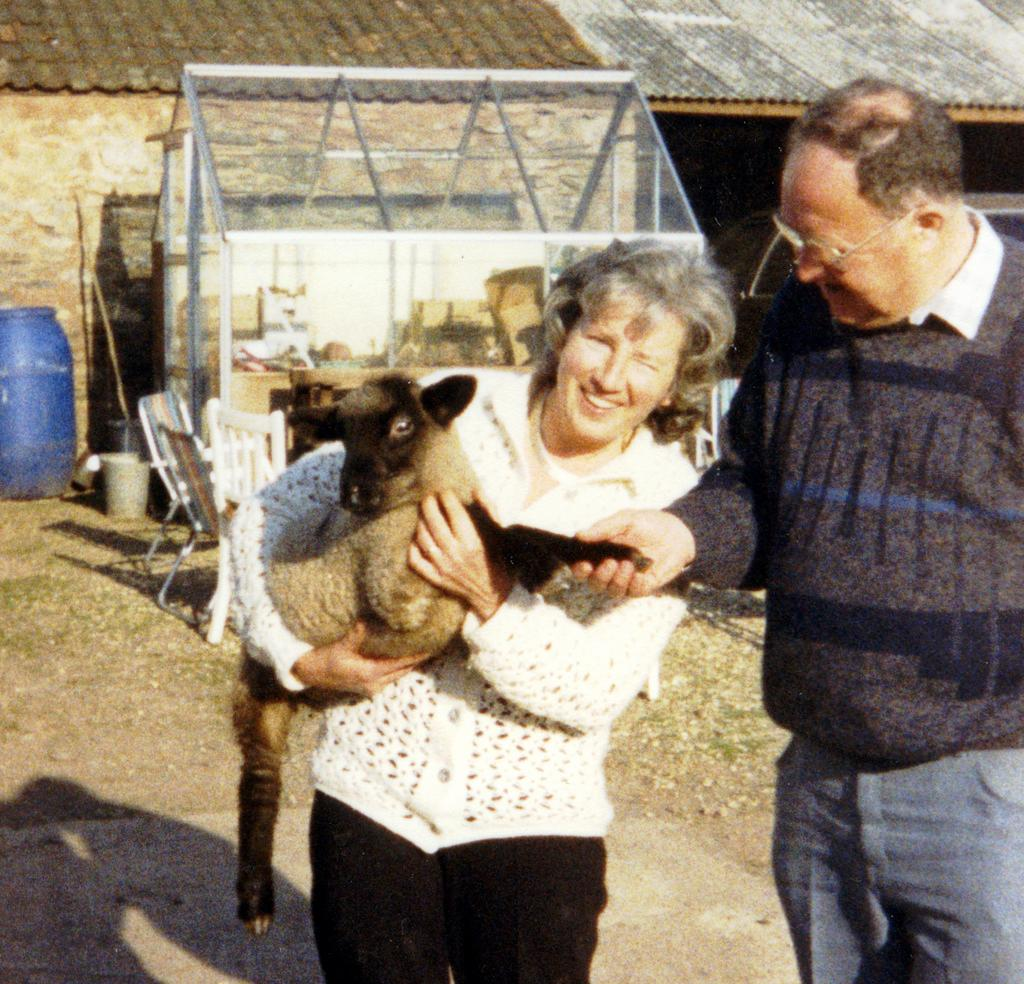Sheep: (216, 368, 500, 844)
